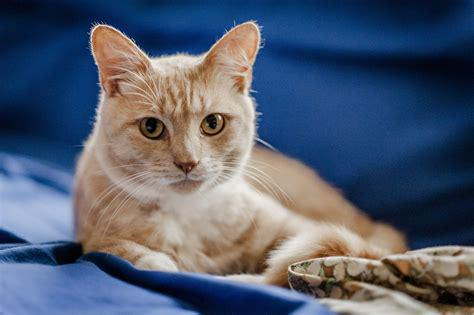cat: (71, 21, 407, 285)
